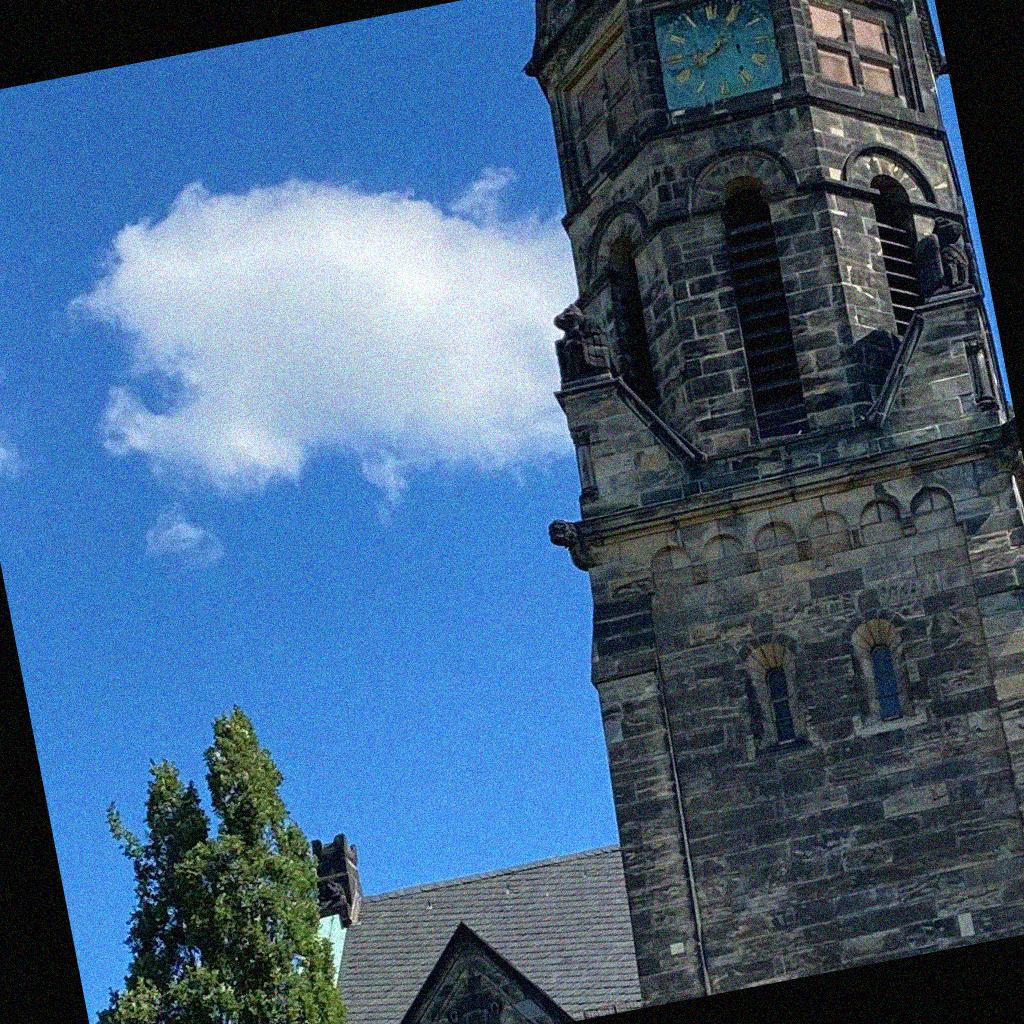tree: (94, 700, 347, 1023)
